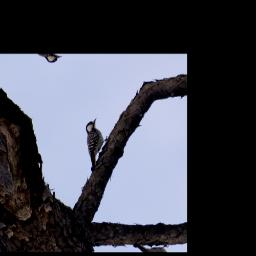Woodpecker: (68, 113, 121, 175)
